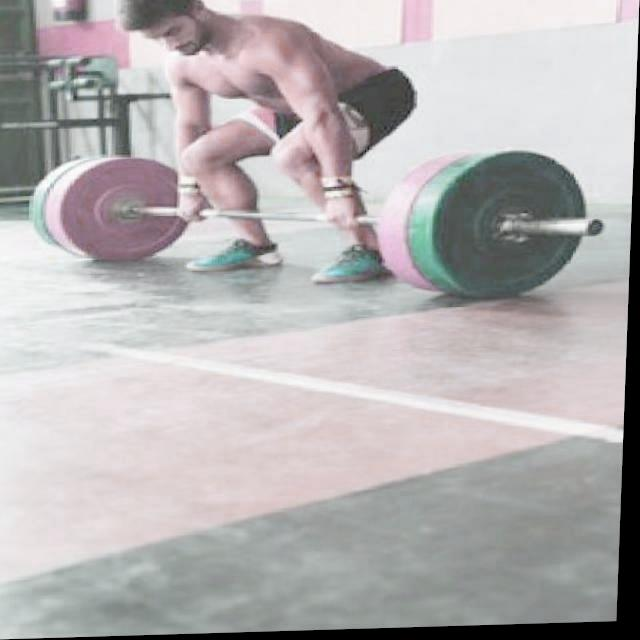barbell: (424, 148, 620, 312)
